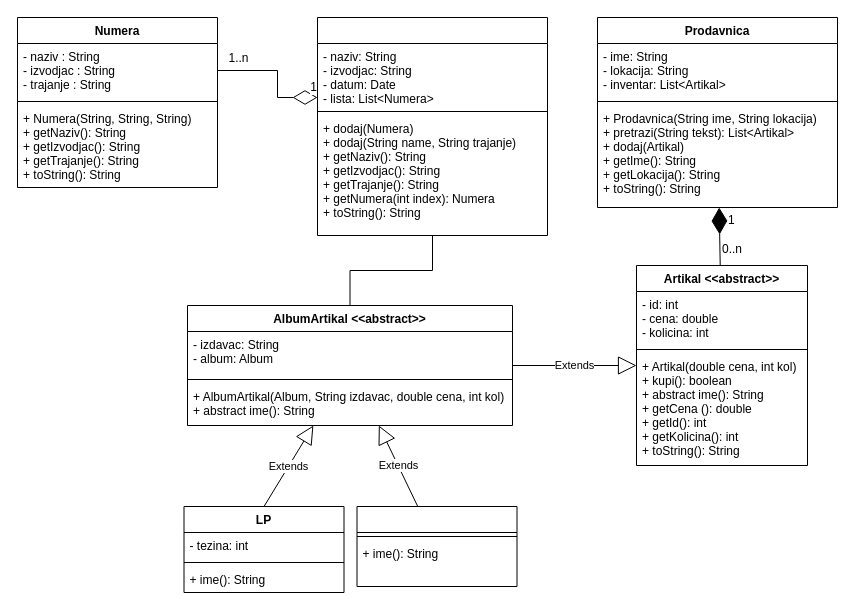
Some shapes in this 855 by 613 pixel diagram are drawn without their labels. Here are the shapes that lost their labels. From the top down, the box of each, then its label:
(316, 16, 548, 236): Album
(356, 506, 517, 586): CD
